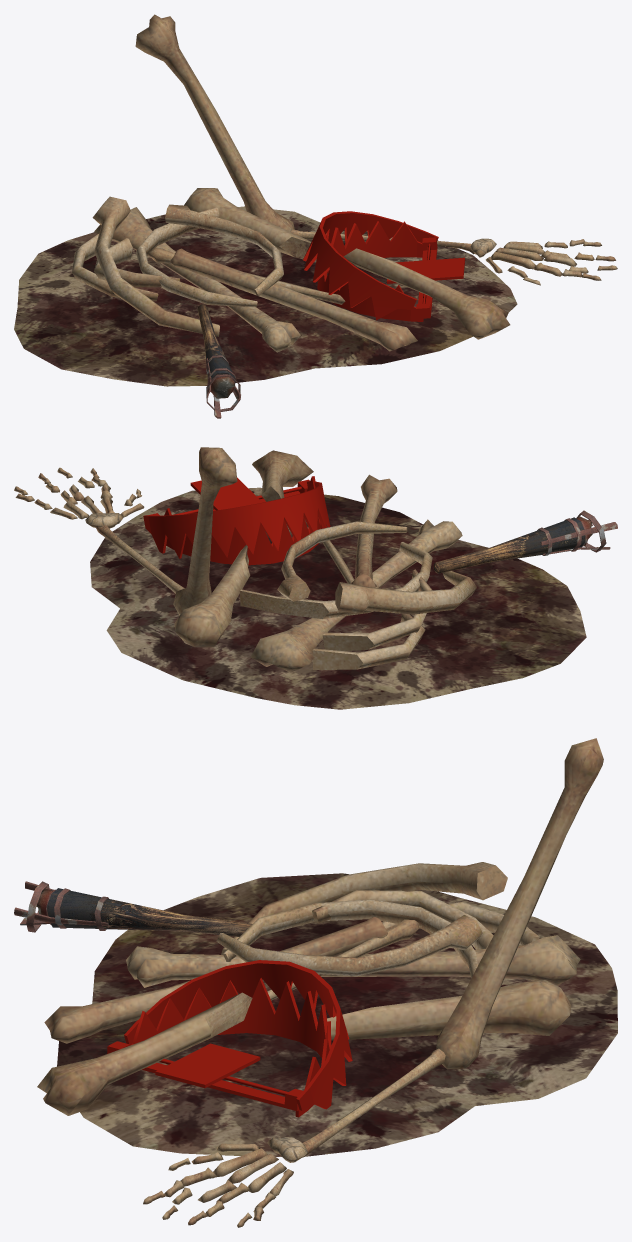
Rendered from PO_001_hone_01_04.fbx.
The picture shows the model from 3 angles, top to bottom: view 1: azimuth 30°, elevation 25°; view 2: azimuth 150°, elevation 25°; view 3: azimuth 270°, elevation 25°; orthographic projection. The views are drawn at different scales.
Visible parts, largest first — view 1: Line031, オブジェクト012, オブジェクト007, オブジェクト, オブジェクト010, オブジェクト005, オブジェクト003, オブジェクト001, Line030, オブジェクト011, オブジェクト006, Line007 (+5 smaller); view 2: Line031, オブジェクト012, オブジェクト003, Line002, オブジェクト007, オブジェクト005, オブジェクト011, オブジェクト006, Line030, オブジェクト001, Line007, オブジェクト004 (+6 smaller); view 3: Line031, オブジェクト007, オブジェクト011, オブジェクト012, オブジェクト003, オブジェクト010, Line002, オブジェクト001, オブジェクト005, Line030, オブジェクト, Line007 (+6 smaller).
Part boxes in pixels (left/top/right/bottom): Line031: left=14, top=206, right=517, bottom=386; オブジェクト012: left=303, top=211, right=438, bottom=320; オブジェクト007: left=135, top=14, right=294, bottom=231; オブジェクト: left=170, top=248, right=417, bottom=351; オブジェクト010: left=343, top=248, right=510, bottom=339; オブジェクト005: left=92, top=196, right=219, bottom=336; オブジェクト003: left=94, top=207, right=300, bottom=352; オブジェクト001: left=317, top=221, right=423, bottom=321; Line030: left=470, top=238, right=617, bottom=285; オブジェクト011: left=184, top=188, right=316, bottom=262; オブジェクト006: left=135, top=207, right=257, bottom=307; Line007: left=165, top=204, right=283, bottom=296; Line031: left=90, top=487, right=586, bottom=709; オブジェクト012: left=143, top=481, right=330, bottom=558; オブジェクト003: left=250, top=519, right=462, bottom=672; Line002: left=434, top=510, right=617, bottom=573; オブジェクト007: left=173, top=447, right=237, bottom=615; オブジェクト005: left=335, top=571, right=476, bottom=614; オブジェクト011: left=174, top=545, right=250, bottom=647; オブジェクト006: left=239, top=542, right=432, bottom=619; Line030: left=14, top=467, right=144, bottom=528; オブジェクト001: left=164, top=476, right=322, bottom=565; Line007: left=277, top=521, right=407, bottom=601; オブジェクト004: left=312, top=614, right=425, bottom=669; Line031: left=57, top=873, right=617, bottom=1156; オブジェクト007: left=436, top=738, right=603, bottom=1069; オブジェクト011: left=327, top=979, right=571, bottom=1040; オブジェクト012: left=124, top=960, right=352, bottom=1110; オブジェクト003: left=126, top=935, right=580, bottom=987; オブジェクト010: left=37, top=992, right=252, bottom=1115; Line002: left=14, top=881, right=252, bottom=936; オブジェクト001: left=131, top=978, right=331, bottom=1117; オブジェクト005: left=221, top=862, right=507, bottom=954; Line030: left=143, top=1137, right=307, bottom=1227; オブジェクト: left=44, top=917, right=387, bottom=1043; Line007: left=216, top=915, right=482, bottom=976.
Size of the model in its own units: 49.04 by 18.41 by 35.32.
